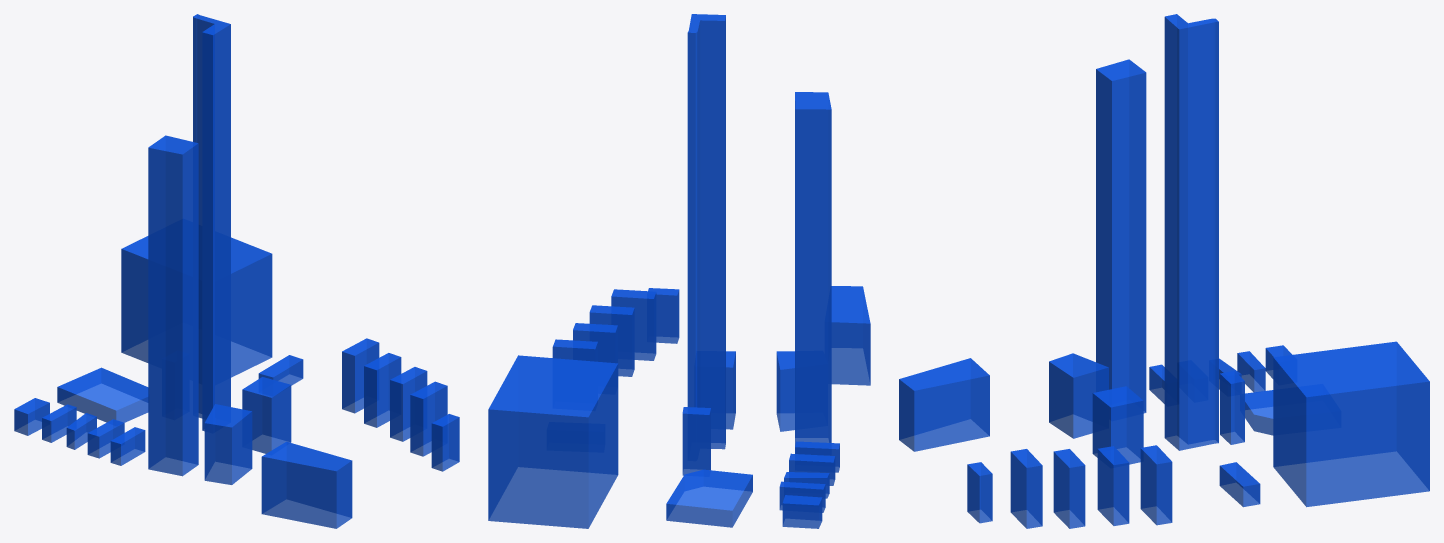
File: building1.obj
The picture shows the model from 3 angles, left to right: view 1: azimuth 30°, elevation 25°; view 2: azimuth 150°, elevation 25°; view 3: azimuth 270°, elevation 25°; orthographic projection. The views are drawn at different scales.
Size of the model in its own units: 805 by 993 by 1122.
